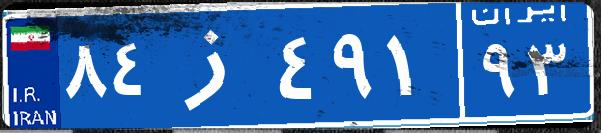1: (385, 28, 445, 110)
3: (525, 38, 570, 115)
4: (273, 28, 330, 110), (110, 28, 158, 105)
8: (57, 26, 110, 107)
9: (330, 28, 385, 110), (475, 38, 525, 113)
ز: (158, 15, 273, 115)
